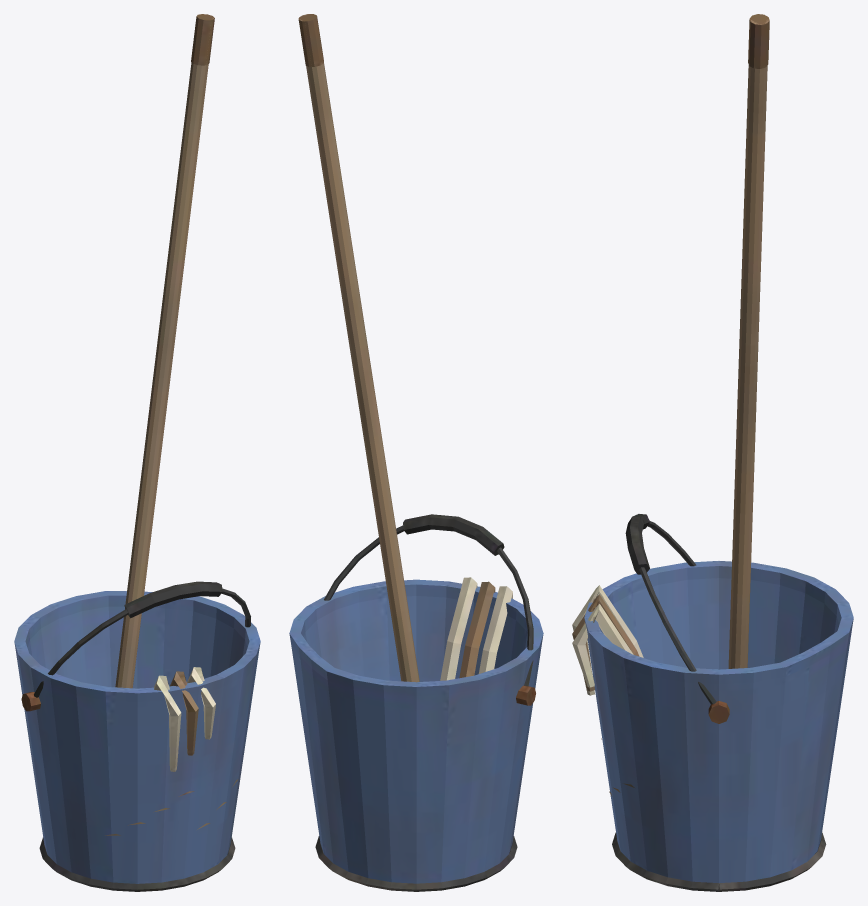
File: D23_mop_in_bucket.glb
3 views of the same model, side by side, from view 1: azimuth 30°, elevation 25°; view 2: azimuth 150°, elevation 25°; view 3: azimuth 270°, elevation 25° (orthographic). The views are drawn at different scales.
Parts seen in each view (by area): view 1: Scuffed open bucket; view 2: Scuffed open bucket; view 3: Scuffed open bucket.
Part boxes in pixels (x1,y1,x2,y2): Scuffed open bucket: (14, 14, 260, 891); Scuffed open bucket: (289, 14, 543, 891); Scuffed open bucket: (572, 14, 853, 891).
Bounding box in the file's own units: 0.3484 × 1.2 × 0.3494.
8 materials, 8 textured.
